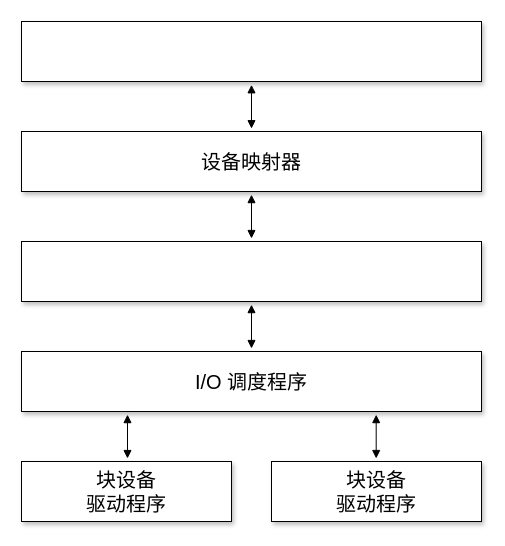
This 505x546 diagram has some shape labels left out. Each missing label, with the centre of its shape:
虚拟文件系统: the point at 252,52
通用块层: the point at 252,272
